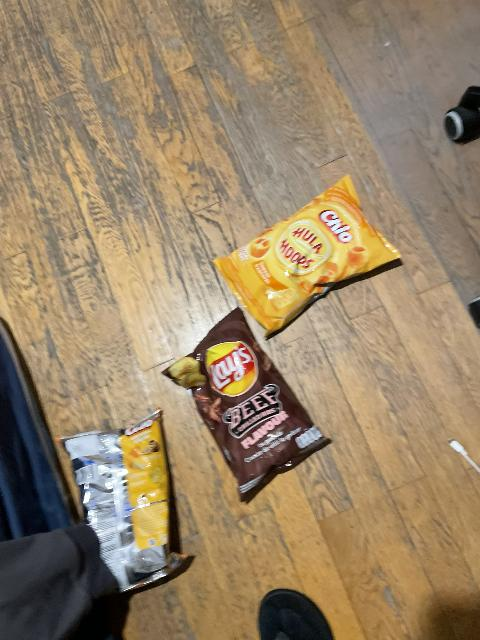Chio Cascaval 125g: (58, 410, 178, 590)
Chio Hula Hoops Cheese 70g: (207, 177, 399, 334)
Lays Beef Grilled Ribs 125g: (168, 311, 336, 492)
